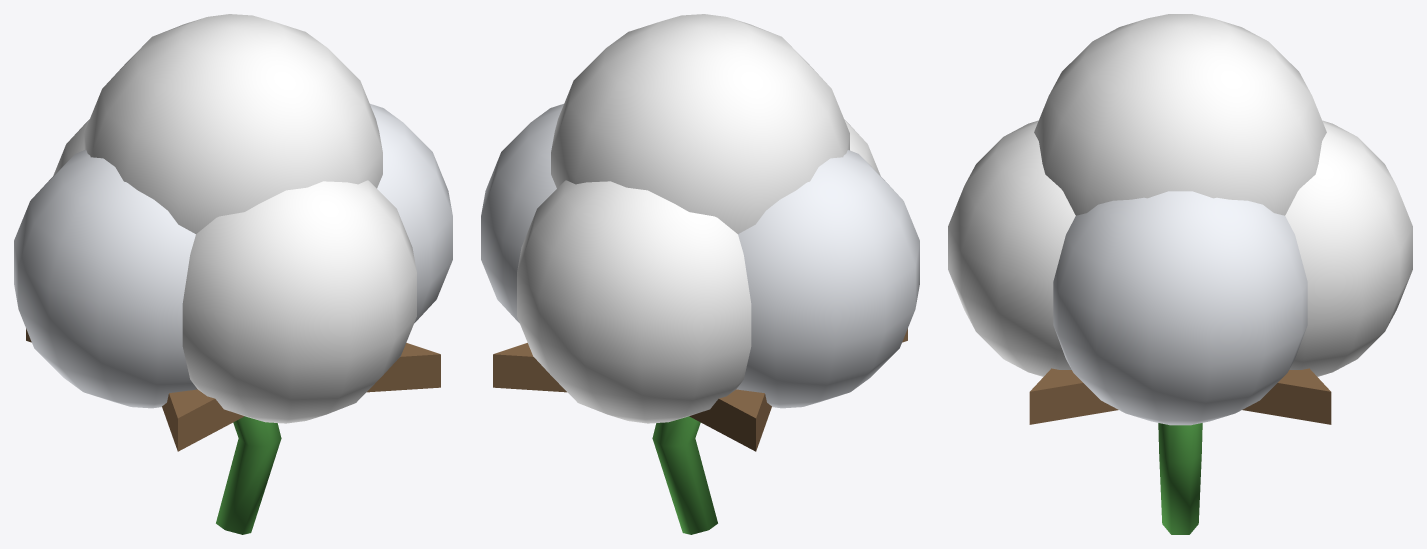
The model's file is flor-de-algodao.glb.
The picture shows the model from 3 angles, left to right: view 1: azimuth 30°, elevation 25°; view 2: azimuth 150°, elevation 25°; view 3: azimuth 270°, elevation 25°; orthographic projection.
Parts seen in each view (by area): view 1: flor-de-algodao; view 2: flor-de-algodao; view 3: flor-de-algodao.
Part boxes in pixels (left/top/right/bottom): flor-de-algodao: left=14, top=14, right=452, bottom=534; flor-de-algodao: left=481, top=14, right=919, bottom=534; flor-de-algodao: left=948, top=14, right=1412, bottom=534.
Bounding box in the file's own units: 0.1504 × 0.1816 × 0.1526.
